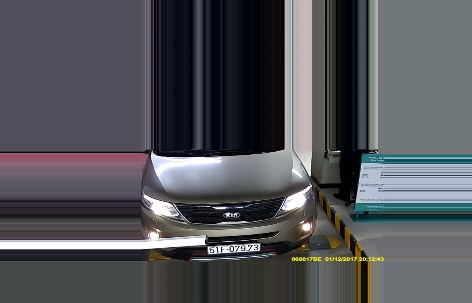plate: (206, 242, 262, 254)
